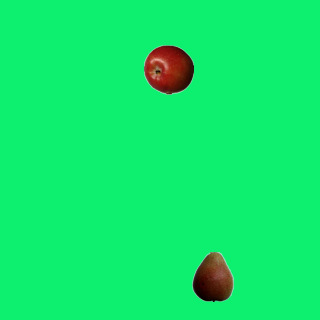Apple Braeburn: (143, 44, 193, 94)
Pear Forelle: (187, 251, 237, 301)
